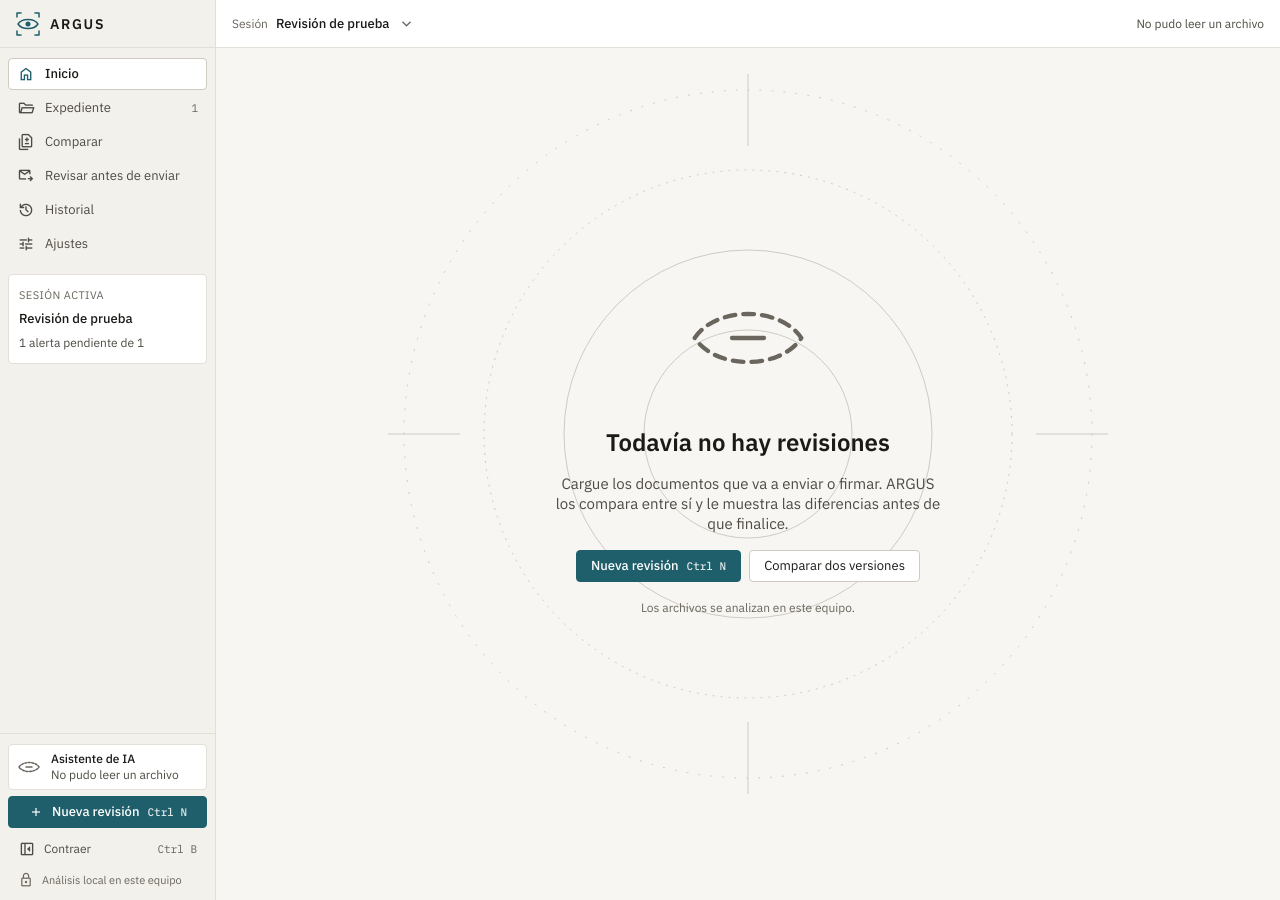
Scenario: Alertas de un solo valor (verificaciones internas) › la lista muestra el título de la verificación y no ofrece silenciar el par
Click the button "Expediente 1": (108, 108) top-left (8, 92), bottom-right (207, 124)
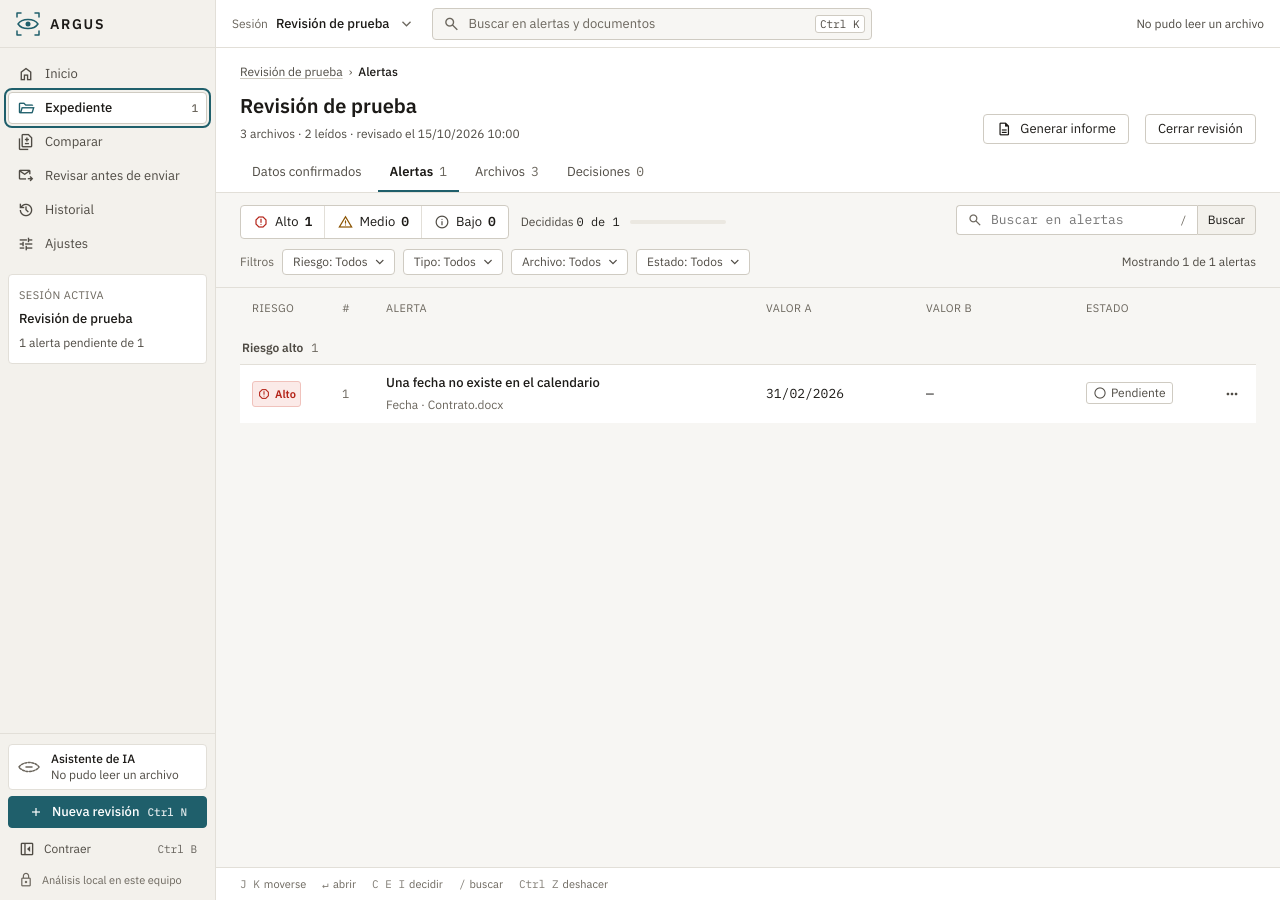
Expected: the text "Una fecha no existe en el calendario" is shown, top-left (386, 374), bottom-right (600, 391)
Expected: the text "—" is shown, top-left (914, 364), bottom-right (1074, 423)
Click the button named "Acciones": (1229, 394) top-left (1216, 381), bottom-right (1242, 407)
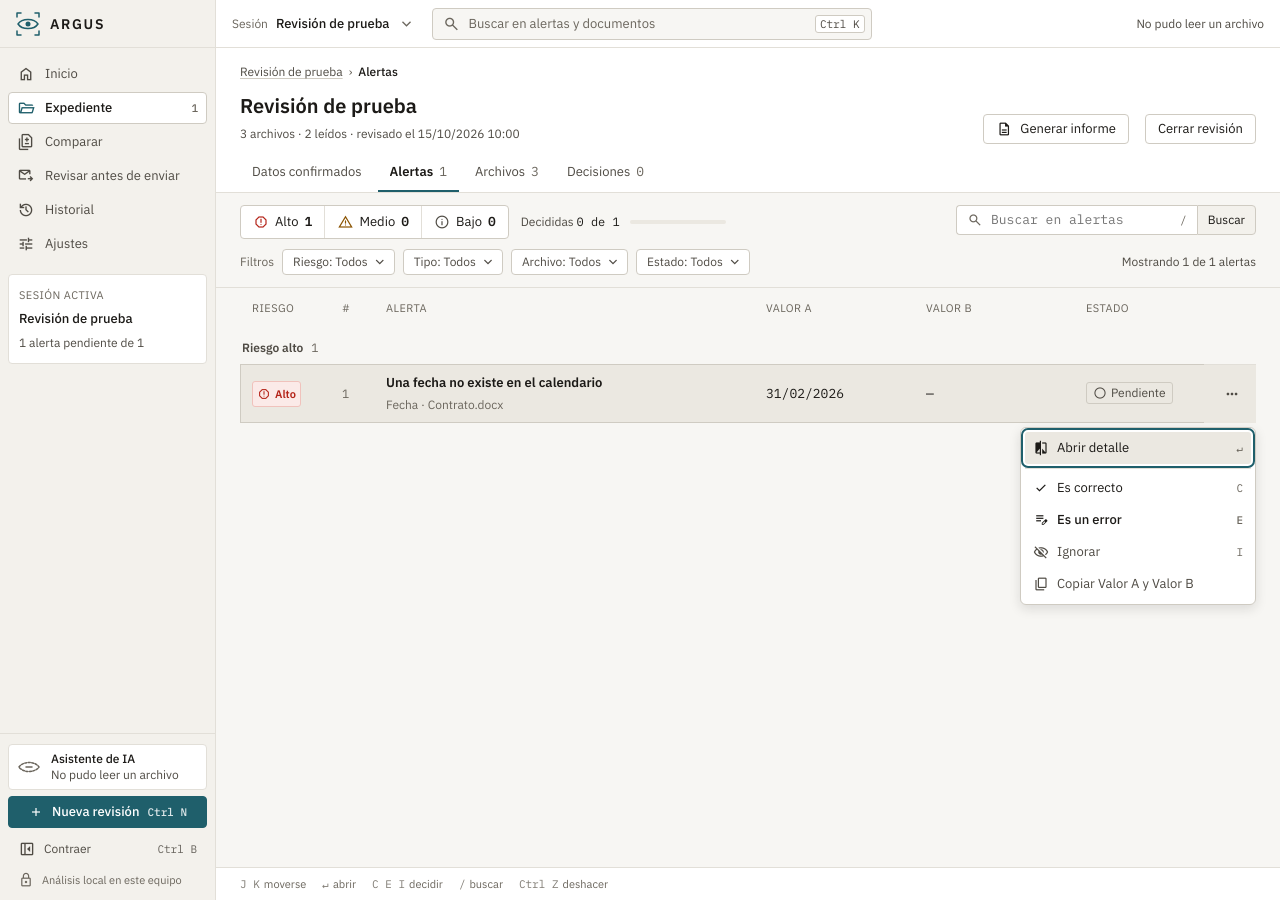
Expected: the menu item "Copiar Valor A y Valor B" is shown, top-left (1025, 568), bottom-right (1251, 600)
